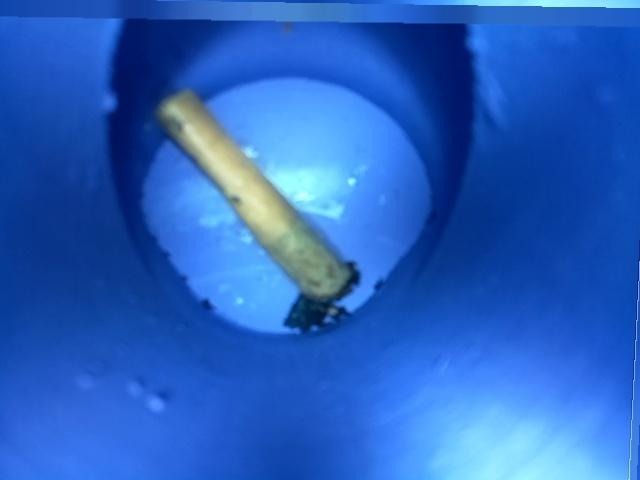megot: (133, 81, 388, 335)
